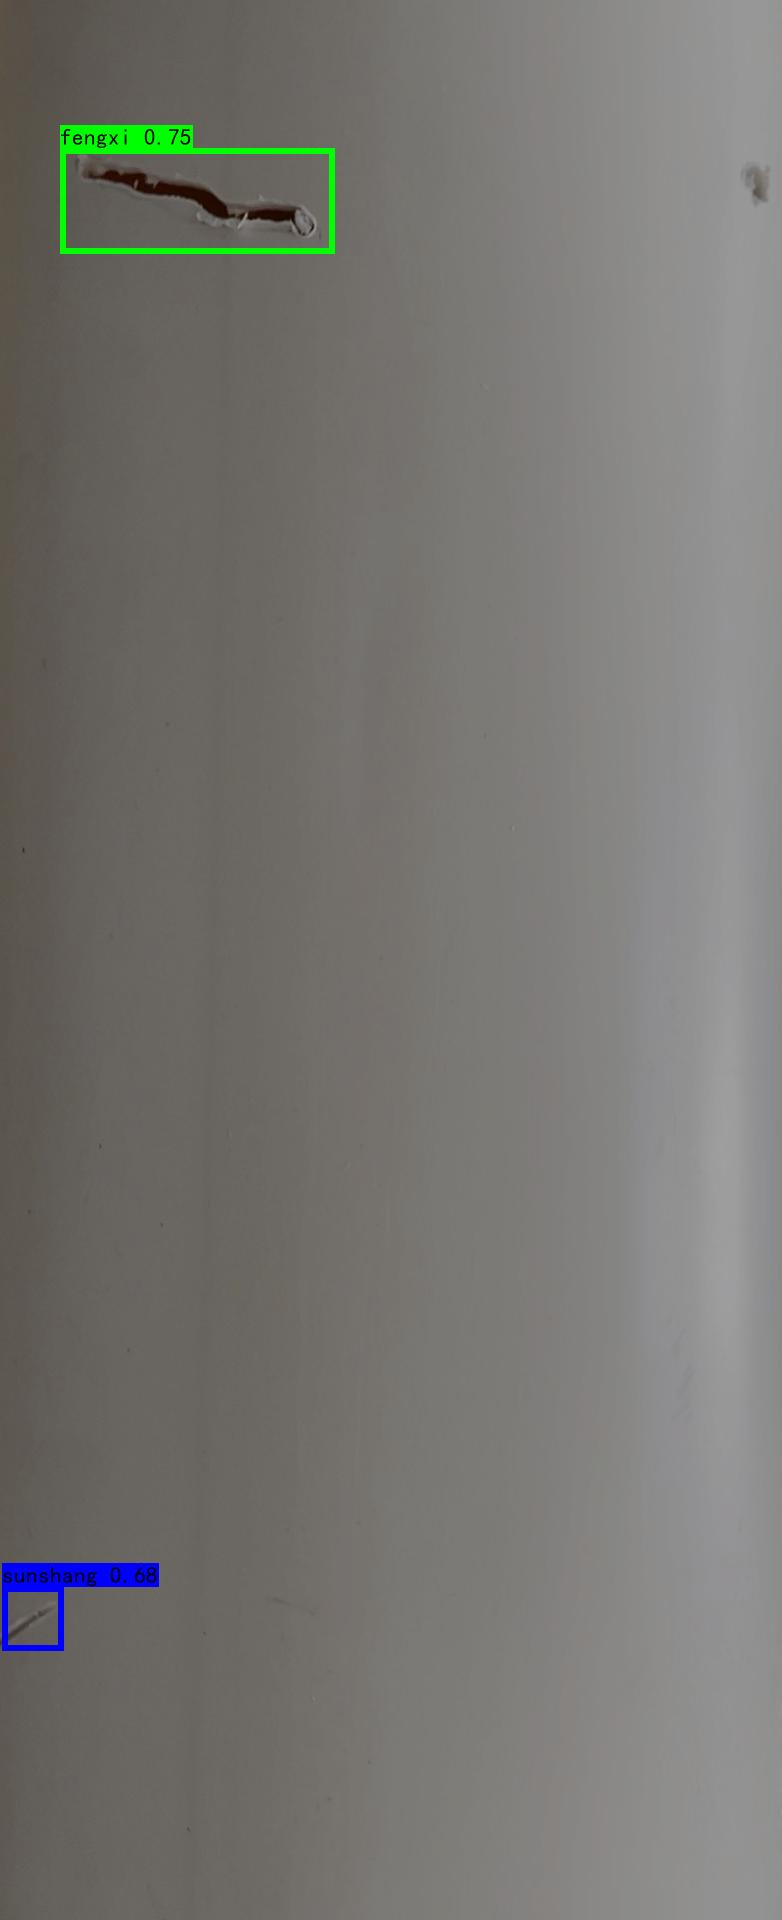fengxi: (82, 151, 343, 253)
kongdong: (739, 154, 775, 201)
